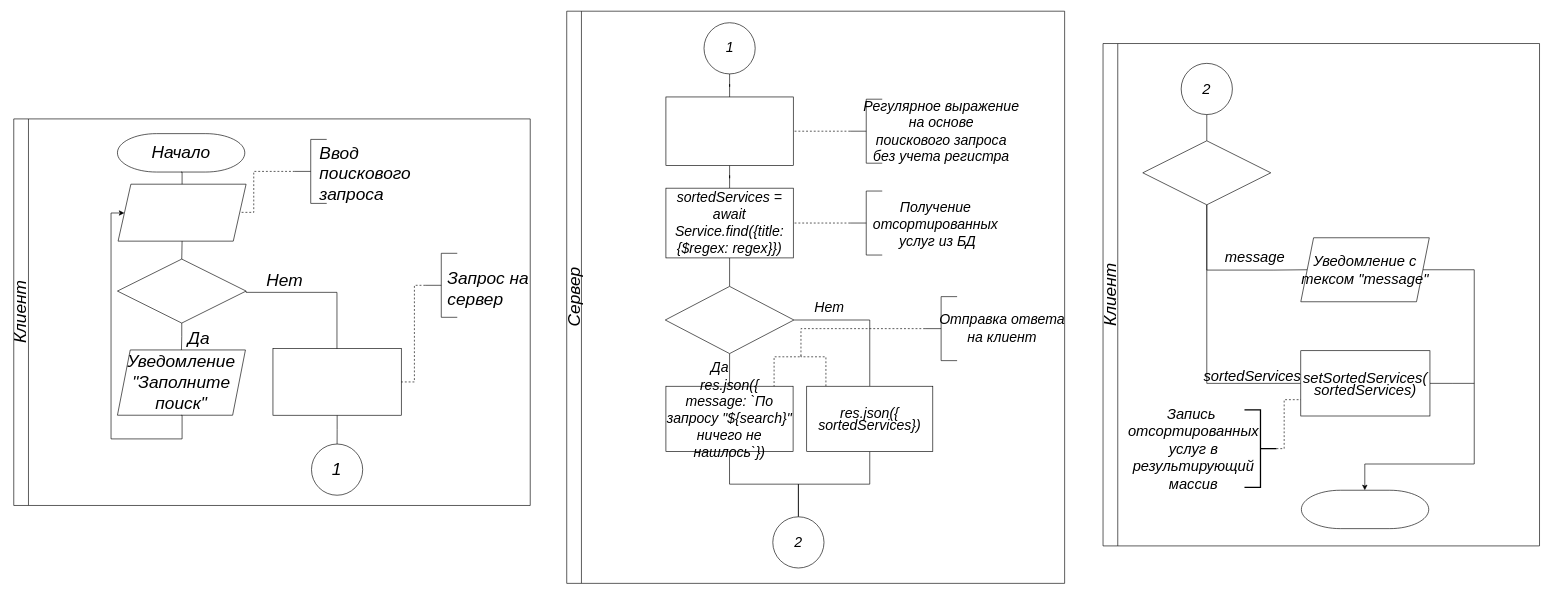
Some shapes in this 1551 by 595 pixel diagram are drawn without their labels. The box of each missing label's shape, as (x1, y1, x2, y2) in pixels:
data: (1142, 140, 1271, 205)
data = axios.get (`/services/ ${search}`): (272, 348, 401, 415)
regex = new RegExp(search, 'i'): (665, 96, 793, 165)
search: (117, 184, 246, 241)
search == NULL: (117, 258, 246, 323)
sortedServices .length == 0: (665, 286, 794, 354)
Конец: (1301, 490, 1429, 529)
